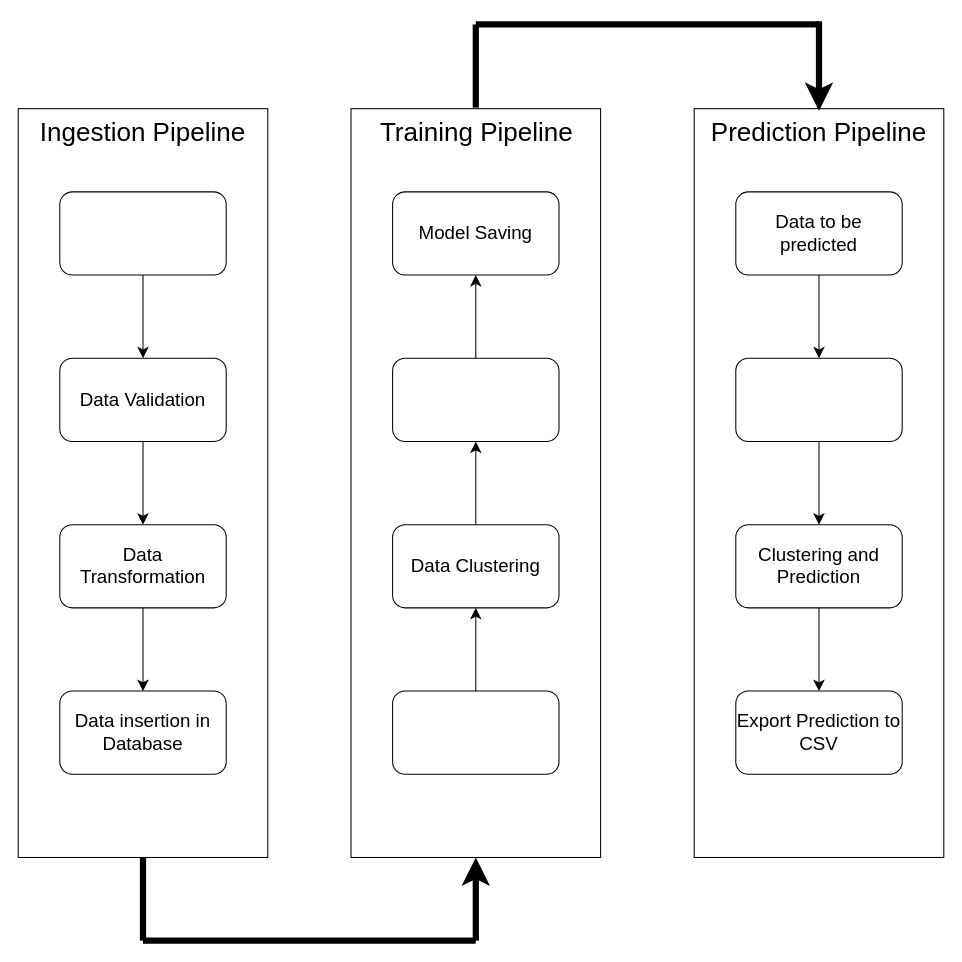
This 962x962 diagram has some shape labels left out. Each missing label, with the centre of its shape:
"Data Preprocessing" goes at pixel 475 732.
"Data(Batches) for Training" goes at pixel 142 233.
"HyperParameter Tuning" goes at pixel 475 399.
"Validation , Transformation , Preporcessing" goes at pixel 818 399.
